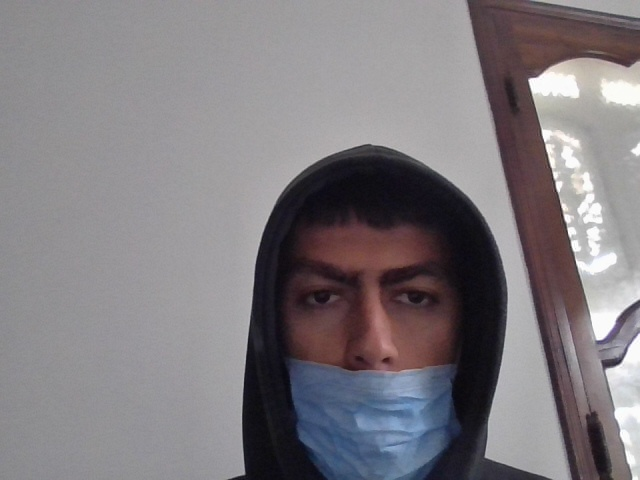mask_weared_incorrect: (277, 202, 462, 479)
